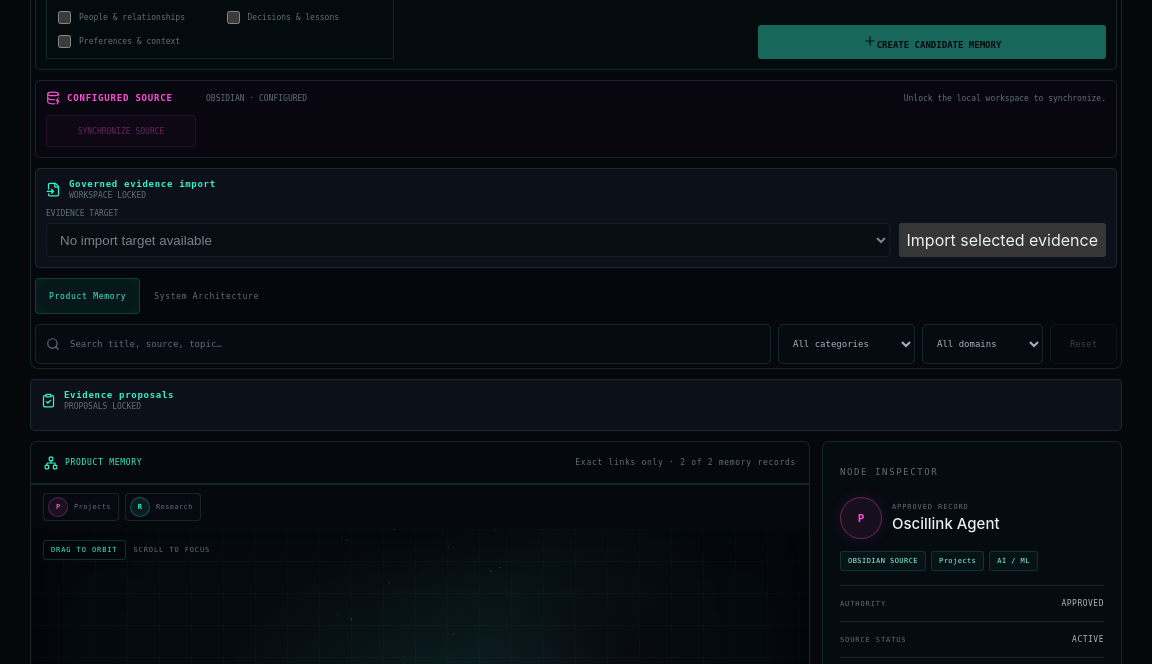
Test: MemoryWorkspace › keeps review controls disabled while workspace authentication is locked
(page scrolled)
Expected: the heading "Oscillink Agent" is shown, [892, 514, 1000, 533]
Step 1. Select "R · Research" in the dropdown named "Filter by category" → (846, 344), box [778, 324, 915, 364]
(page scrolled)
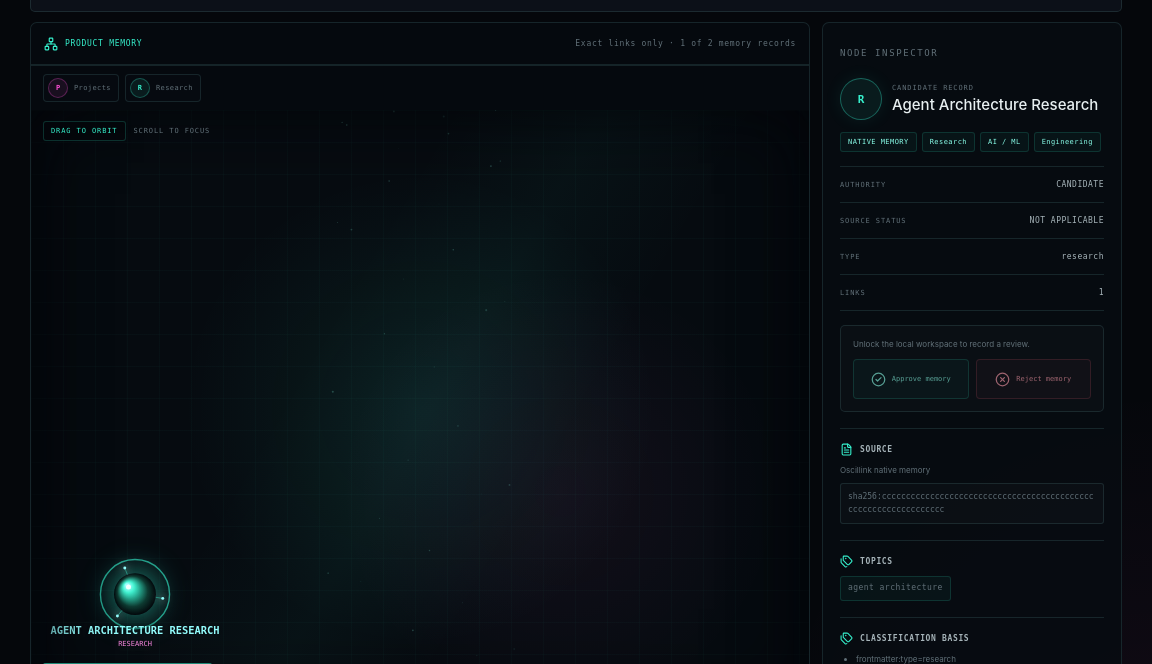
Expected: the heading "Agent Architecture Research" is shown, [892, 96, 1104, 114]
Expected: the button "Approve memory" is disabled, [853, 359, 968, 399]
Expected: the text "Unlock the local workspace to record a review." is shown, [853, 339, 1030, 349]
